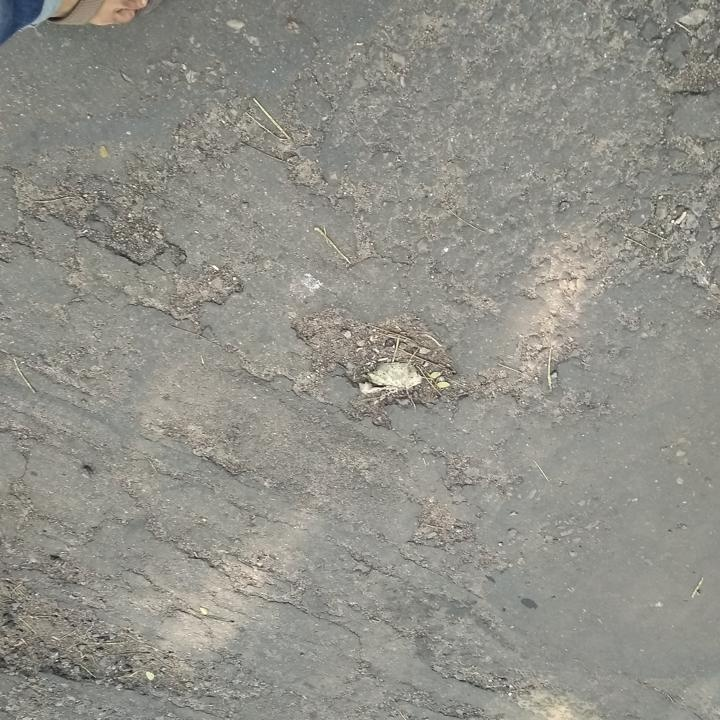pothole: (0, 578, 200, 693), (289, 301, 473, 415), (149, 272, 247, 326), (94, 217, 171, 269), (403, 498, 477, 552)
